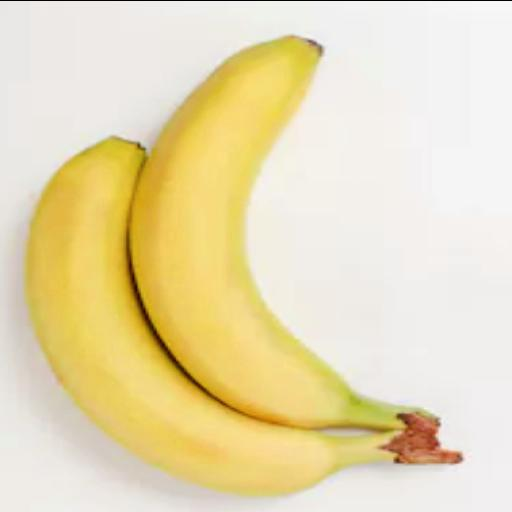banana: (25, 138, 394, 495), (130, 37, 429, 429)
